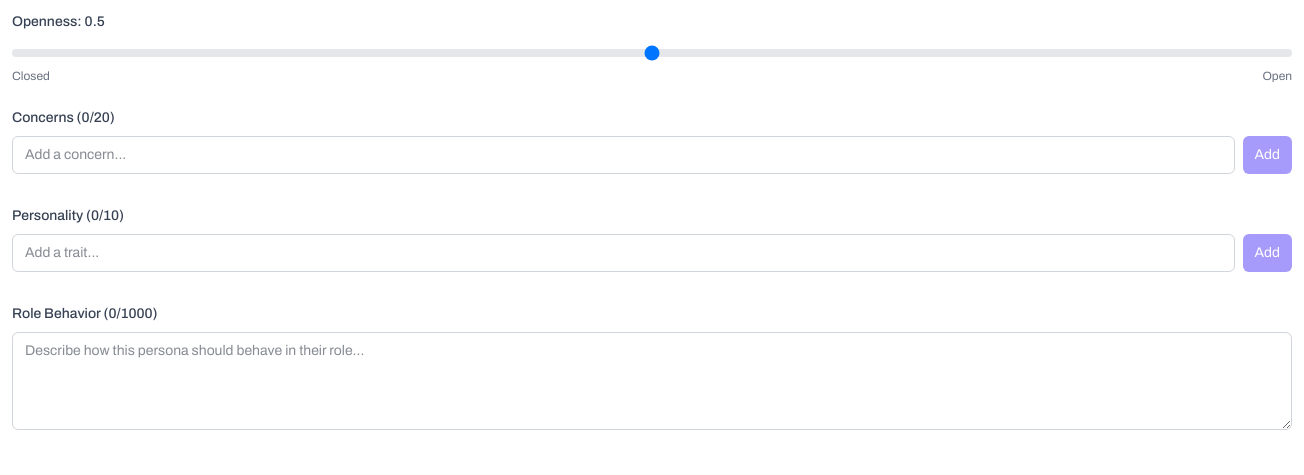
Scenario: PersonaCharacteristicsEditor › personality › adds multiple distinct traits sequentially (controlled harness)
The width and height of the screenshot is (1304, 475).
Type "Warm" into the field with test id "personality-input".
click(623, 253); type("Warm")  # box [12, 234, 1235, 272]
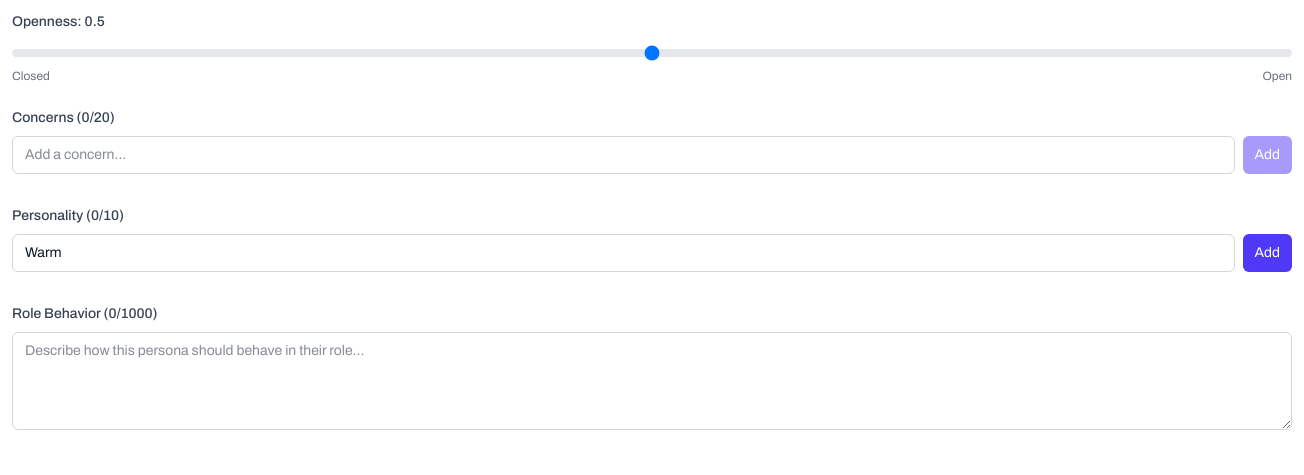
Click the button with test id "add-personality-button".
click(1267, 253)  # box [1243, 234, 1292, 272]
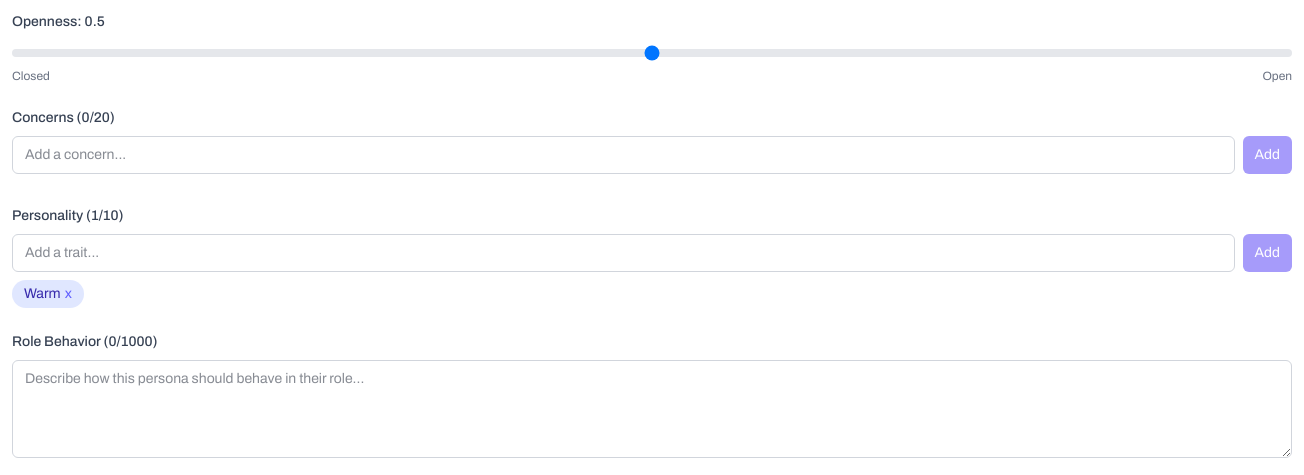
Type "Direct" into the field with test id "personality-input".
click(623, 253); type("Direct")  # box [12, 234, 1235, 272]
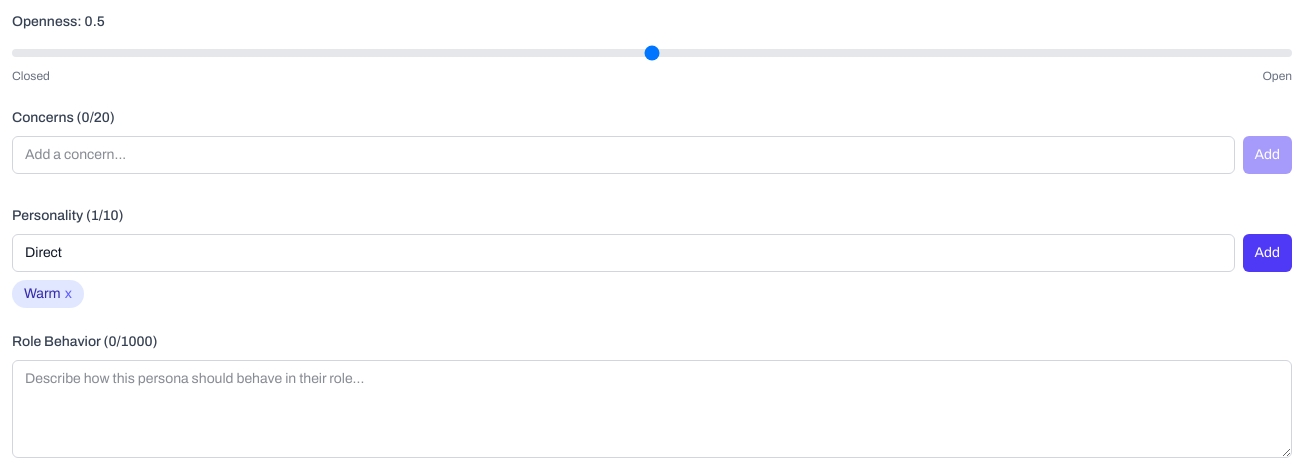
Click the button with test id "add-personality-button".
click(1267, 253)  # box [1243, 234, 1292, 272]
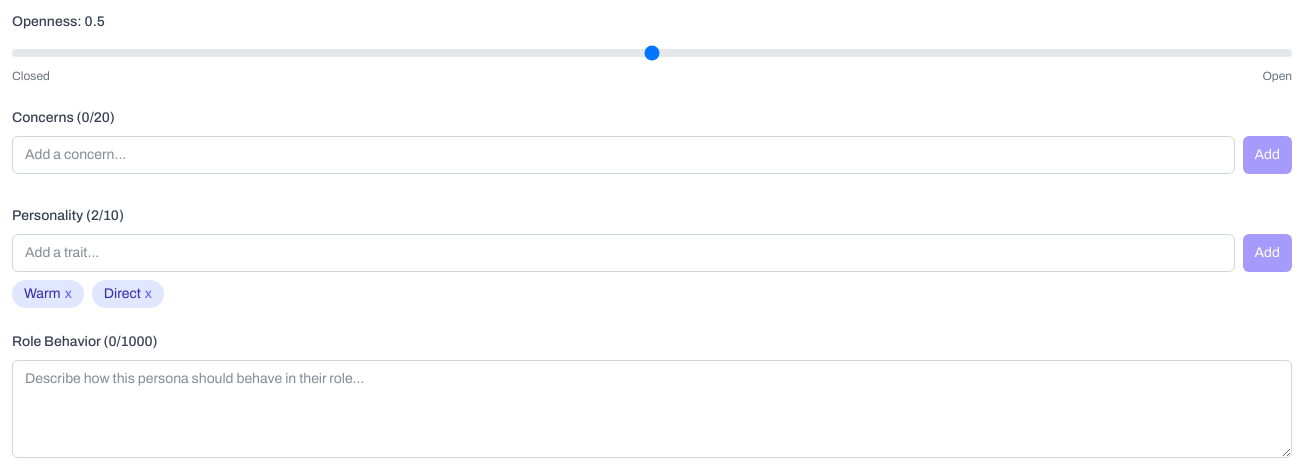
Result: the text "Personality (2/10)" is shown at [12, 208, 124, 223]
